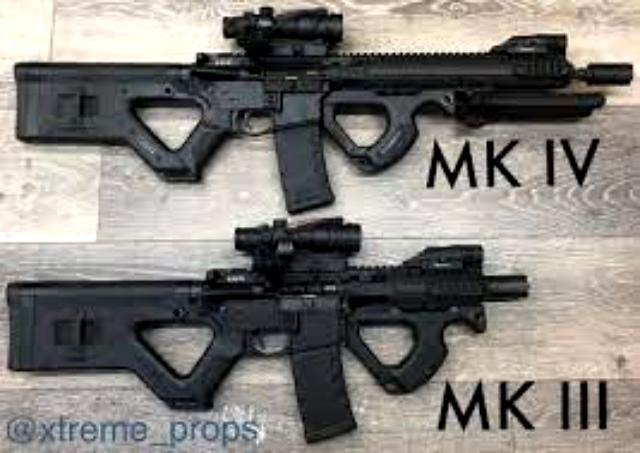rifle: (14, 6, 634, 216), (8, 220, 530, 444)
